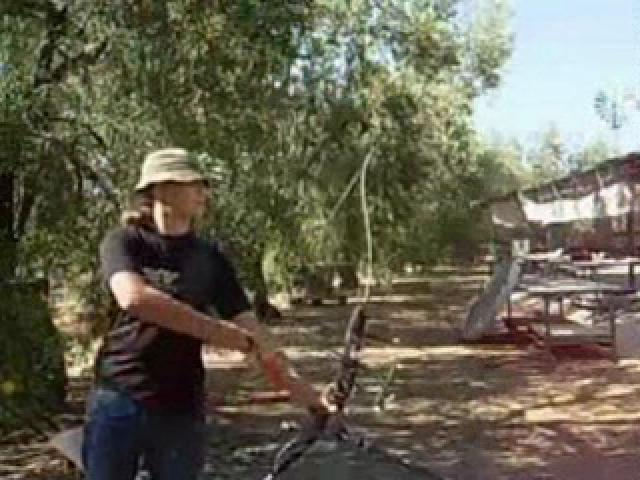I: (66, 142, 333, 476)
